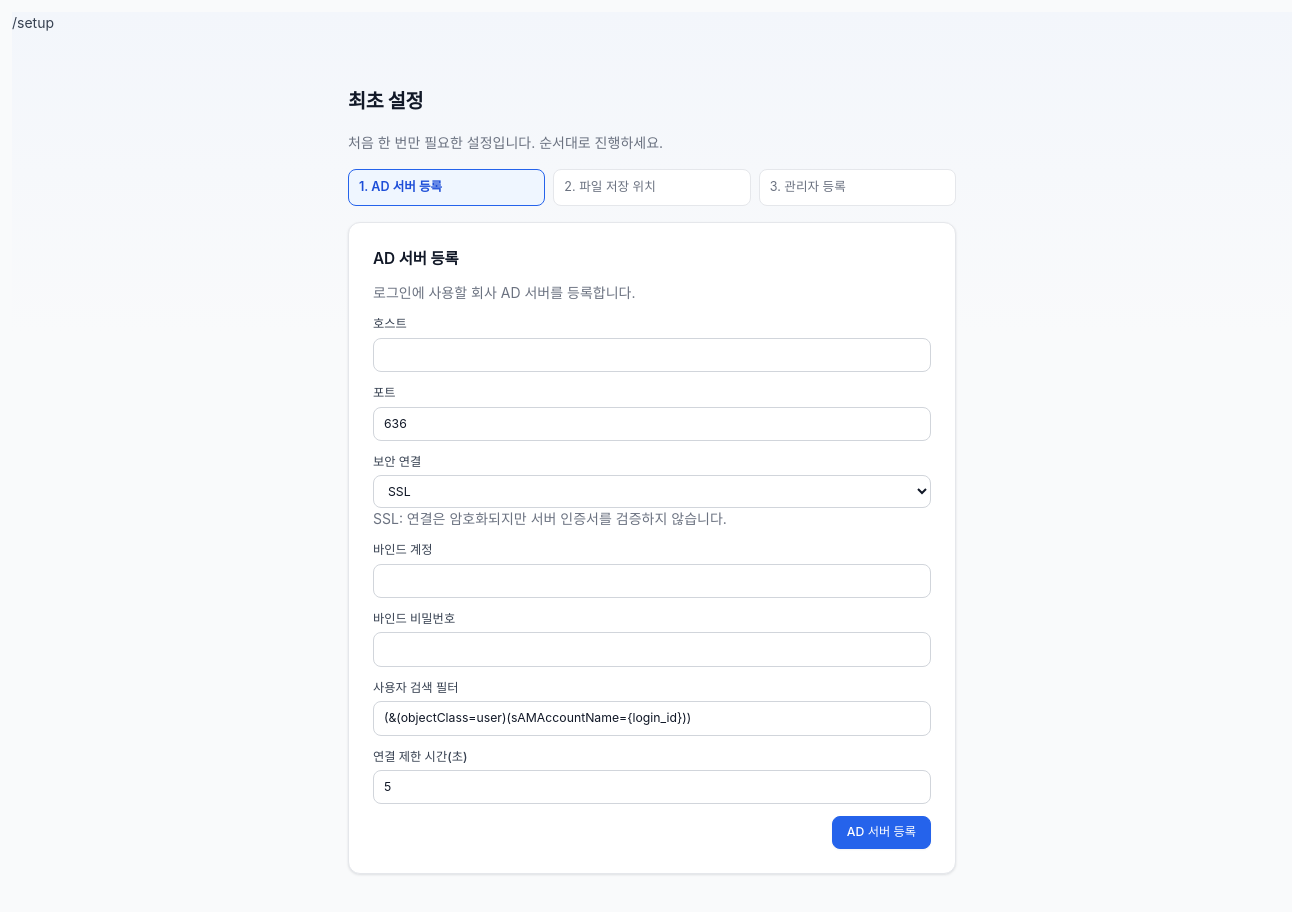
Scenario: 보안 연결 방식과 포트 (AC8) › fills the default port when the port field was emptied
The width and height of the screenshot is (1292, 912).
Check: the heading "AD 서버 등록" is shown, box [373,249,458,268]
Clear the number field labelled "포트" at [652, 424], box [373,406,931,441]
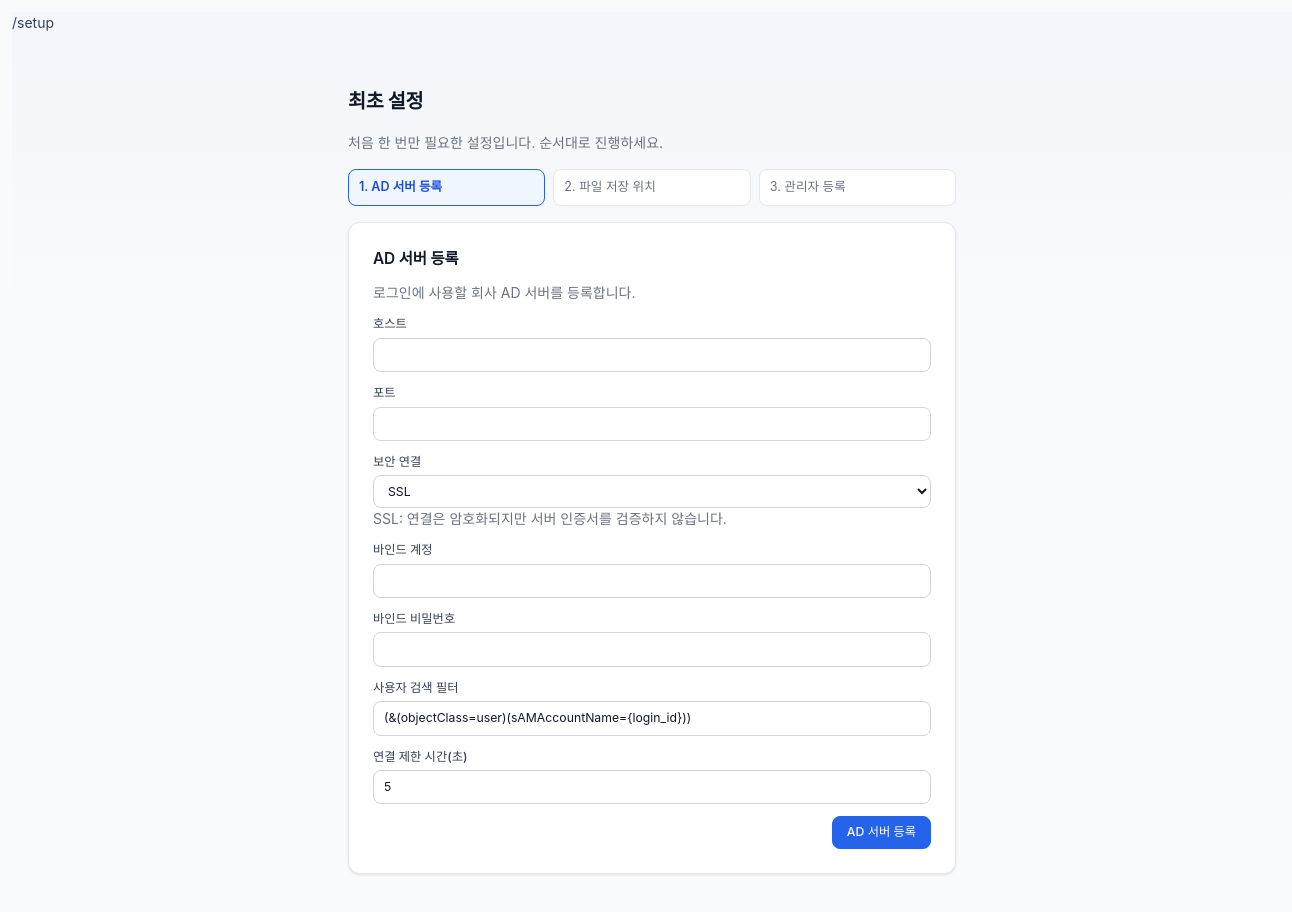
Select "없음" in the dropdown labelled "보안 연결" at [652, 492], box [373,475,931,508]
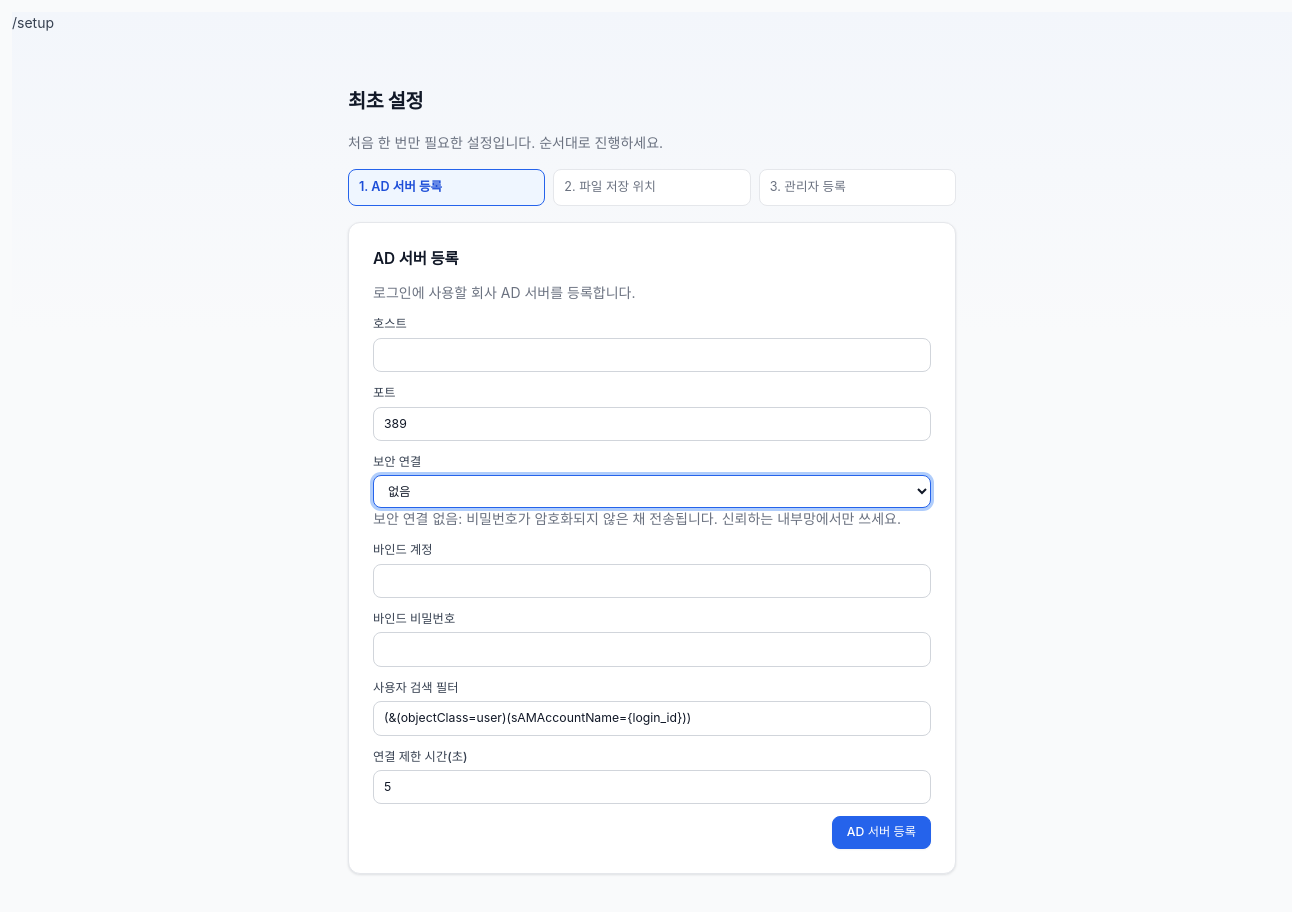
Check: the number field labelled "포트" holds "389", box [373,406,931,441]
